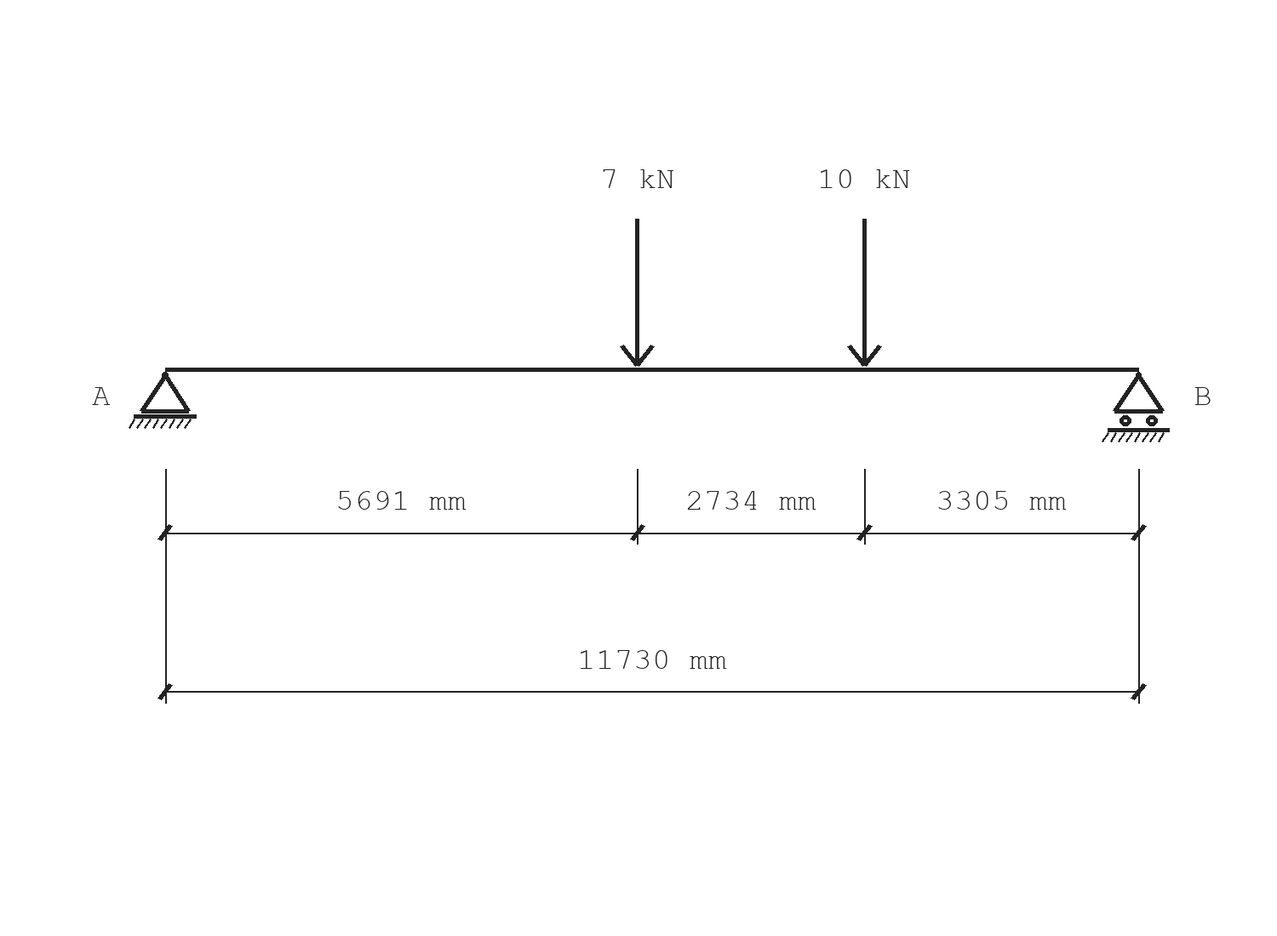pin_support: (129, 372, 197, 429)
point_load: (620, 219, 655, 367), (847, 219, 882, 367)
roller_support: (1102, 372, 1170, 442)
